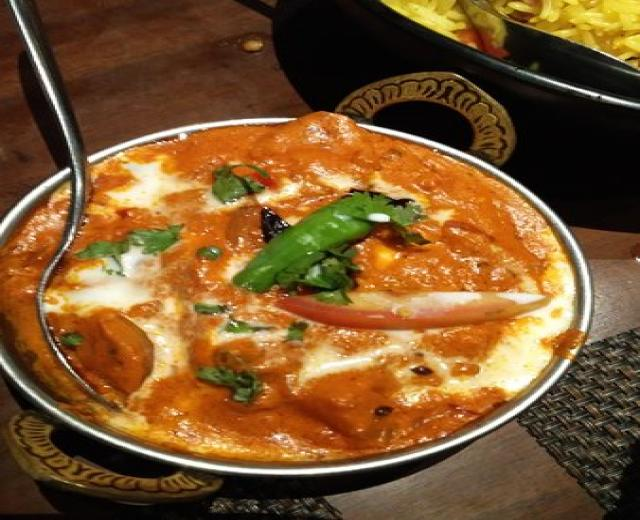kadai paneer: (0, 112, 513, 455)
